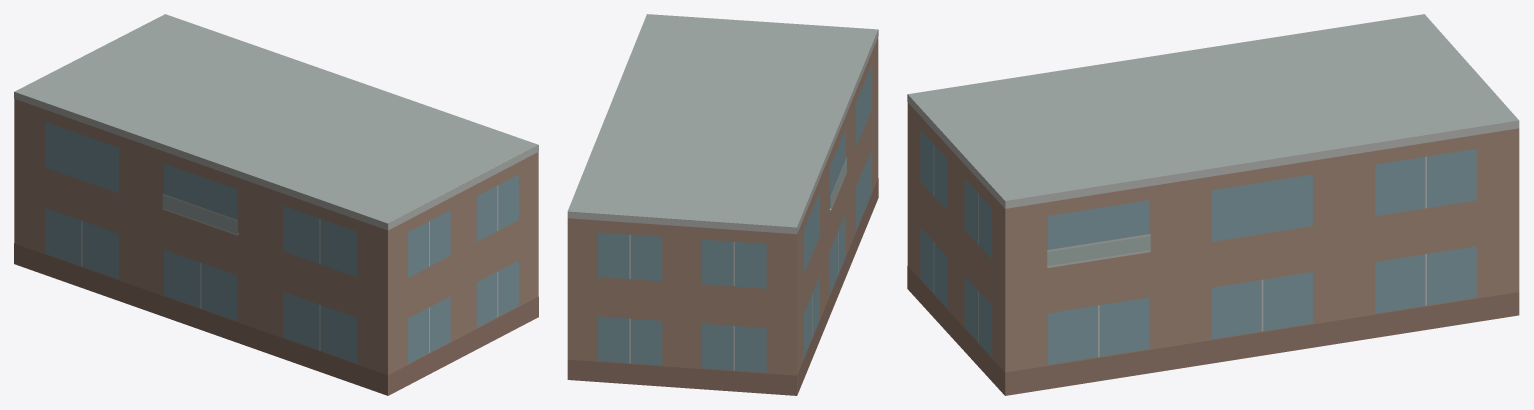
The model's file is survey-upis-32581200.glb.
The picture shows the model from 3 angles, left to right: view 1: azimuth 30°, elevation 25°; view 2: azimuth 150°, elevation 25°; view 3: azimuth 270°, elevation 25°; orthographic projection. The views are drawn at different scales.
Parts seen in each view (by area): view 1: survey-upis-32581200.tmp; view 2: survey-upis-32581200.tmp; view 3: survey-upis-32581200.tmp.
Part boxes in pixels (<box>): survey-upis-32581200.tmp: <box>14,14,538,395</box>; survey-upis-32581200.tmp: <box>567,14,878,395</box>; survey-upis-32581200.tmp: <box>907,14,1519,395</box>.
Size of the model in its own units: 12.58 by 6.1 by 17.37.
